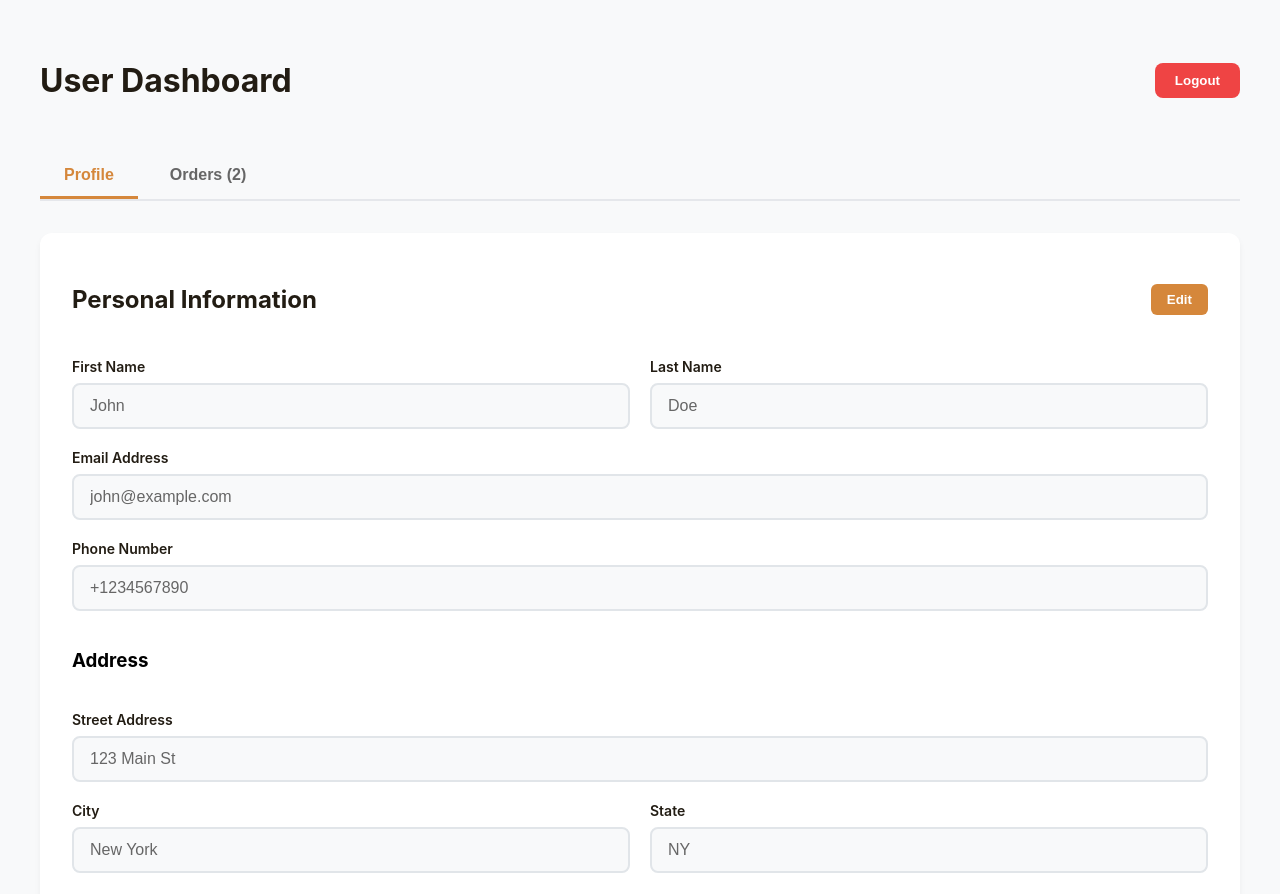
DashboardPage › validates form fields when submitted
This screenshot has width=1280, height=894.
Click the button "Edit" at [1179, 299], box left=1151, top=284, right=1208, bottom=315
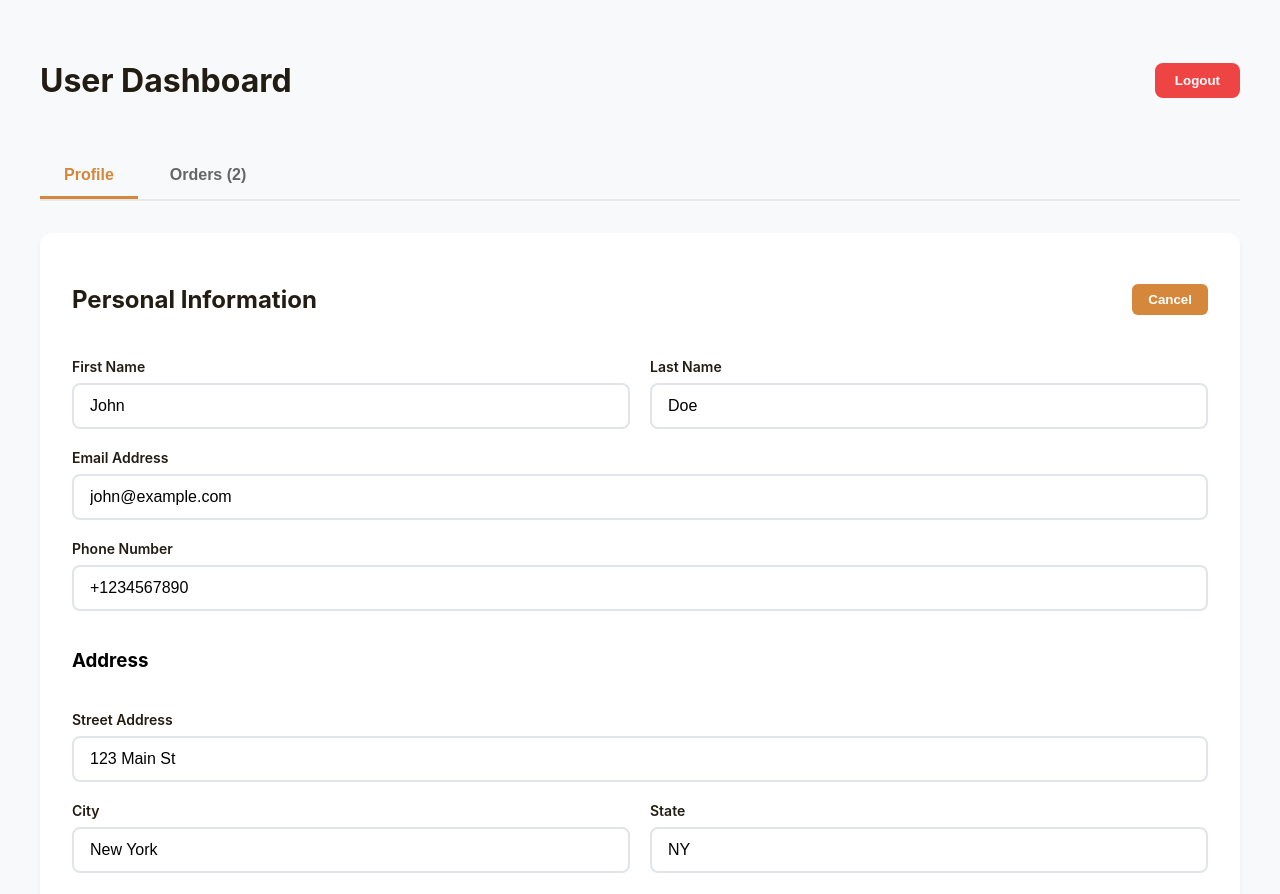
Clear the field showing "John" below "First Name" at [351, 406], box left=72, top=383, right=630, bottom=429
(page scrolled)
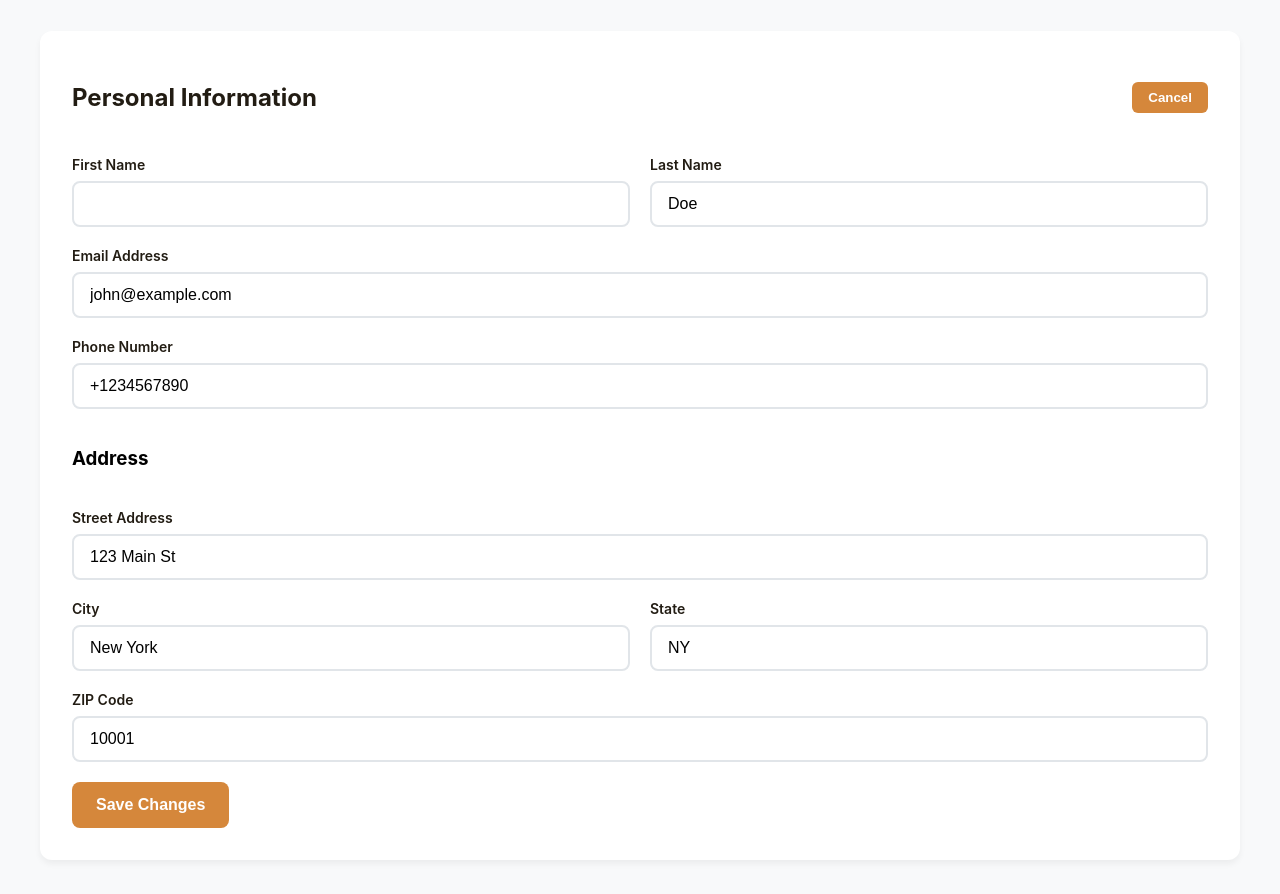
Click the button "Save Changes" at [151, 805], box left=72, top=782, right=229, bottom=828
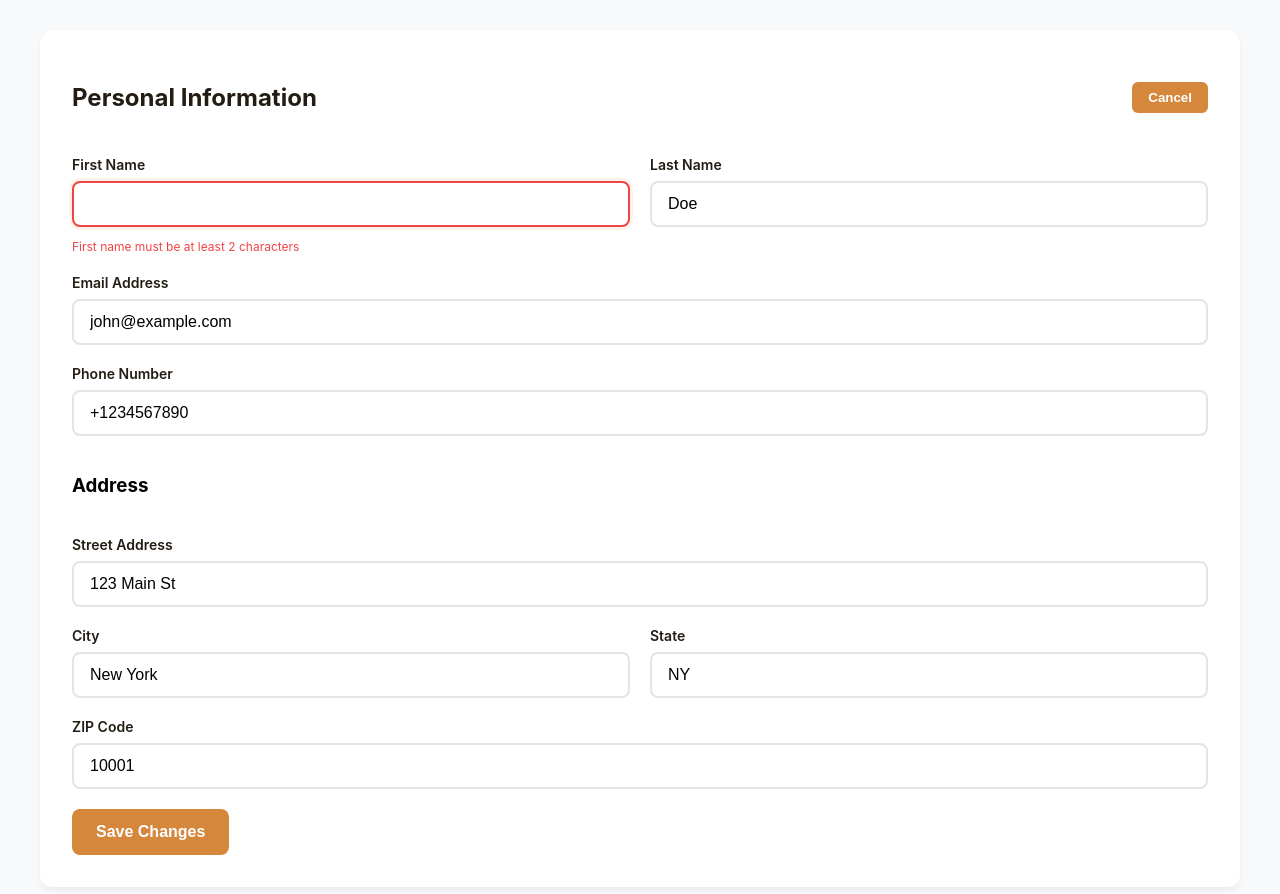
Now the text "First name must be at least 2 characters" is shown, box left=72, top=239, right=299, bottom=254
